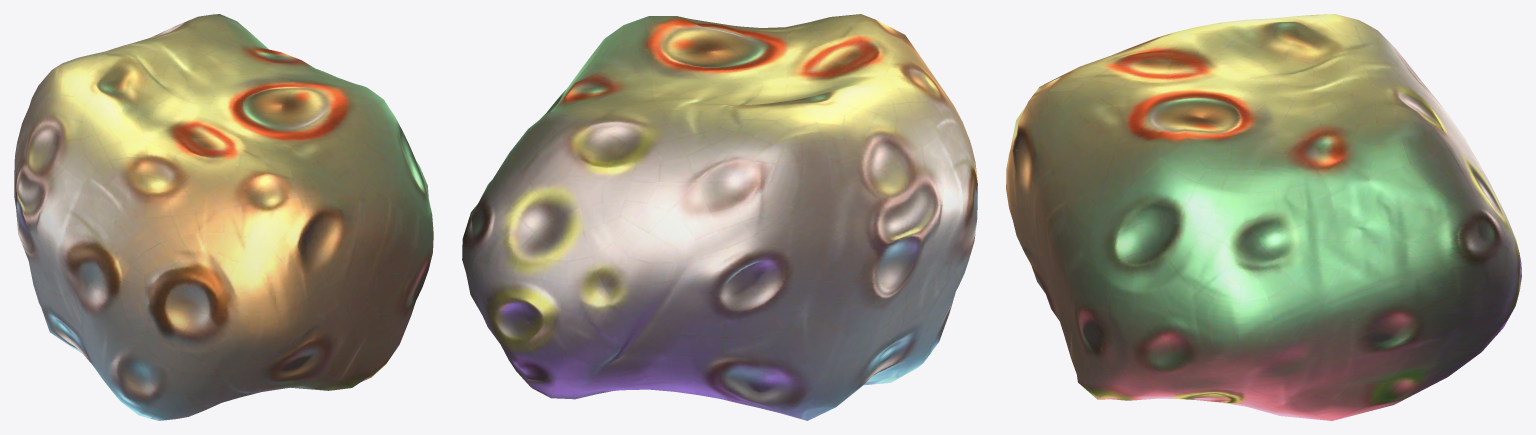
3 renders of one model, left to right at view 1: azimuth 30°, elevation 25°; view 2: azimuth 150°, elevation 25°; view 3: azimuth 270°, elevation 25°, orthographic. The views are drawn at different scales.
Visible parts, largest first — view 1: Obstacle; view 2: Obstacle; view 3: Obstacle.
Boxes of the visible parts, <box> form: Obstacle: <box>14,14,433,420</box>; Obstacle: <box>462,14,977,420</box>; Obstacle: <box>1006,14,1521,420</box>.
Size of the model in its own units: 5.47 by 3.96 by 6.04.
1 material, 1 textured.
